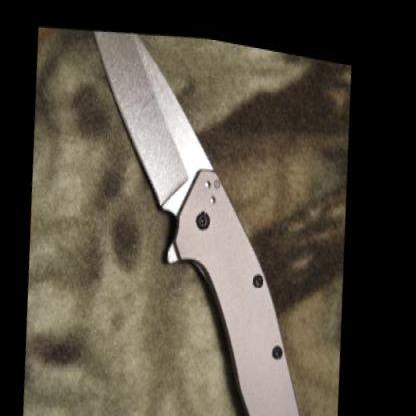knife: (55, 11, 242, 240)
